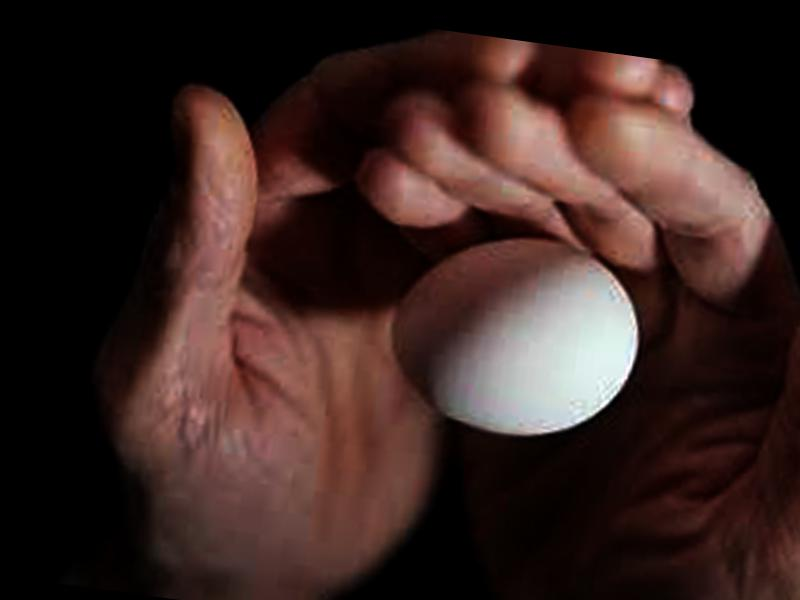Eggs: (382, 222, 651, 452)
